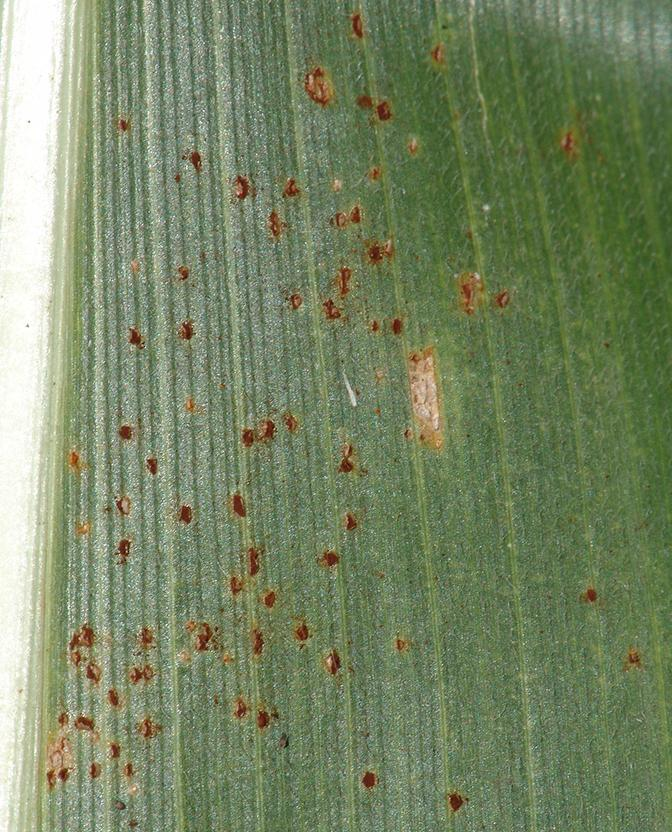Corn_Common_Rust: (182, 545, 348, 751), (48, 613, 171, 794), (179, 145, 308, 244), (323, 158, 386, 340), (387, 313, 447, 451), (298, 62, 397, 128), (437, 257, 518, 317), (167, 486, 261, 532), (78, 494, 136, 567), (235, 400, 311, 451), (555, 106, 586, 166), (432, 779, 480, 817), (141, 257, 201, 282), (113, 317, 149, 355), (341, 8, 377, 43), (270, 282, 308, 315), (331, 438, 361, 478), (358, 753, 386, 794), (174, 307, 205, 343), (389, 618, 416, 658), (114, 410, 142, 448), (66, 440, 94, 478), (620, 642, 650, 675), (578, 575, 605, 610), (426, 37, 451, 72), (175, 388, 202, 419), (394, 128, 424, 155), (104, 114, 135, 136), (336, 512, 364, 535), (146, 449, 166, 479)
